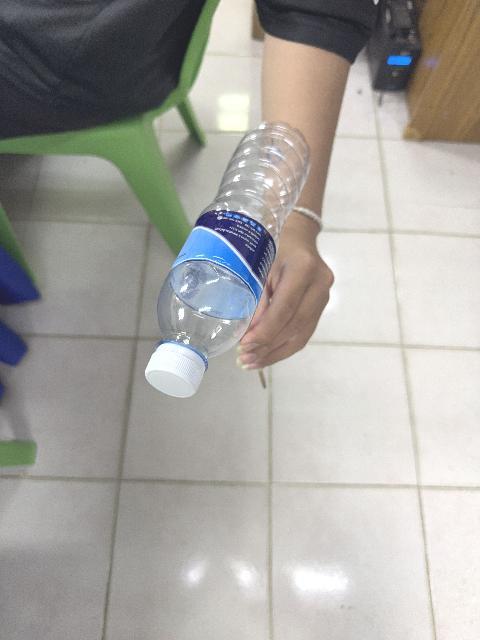bottle: (145, 123, 309, 397)
